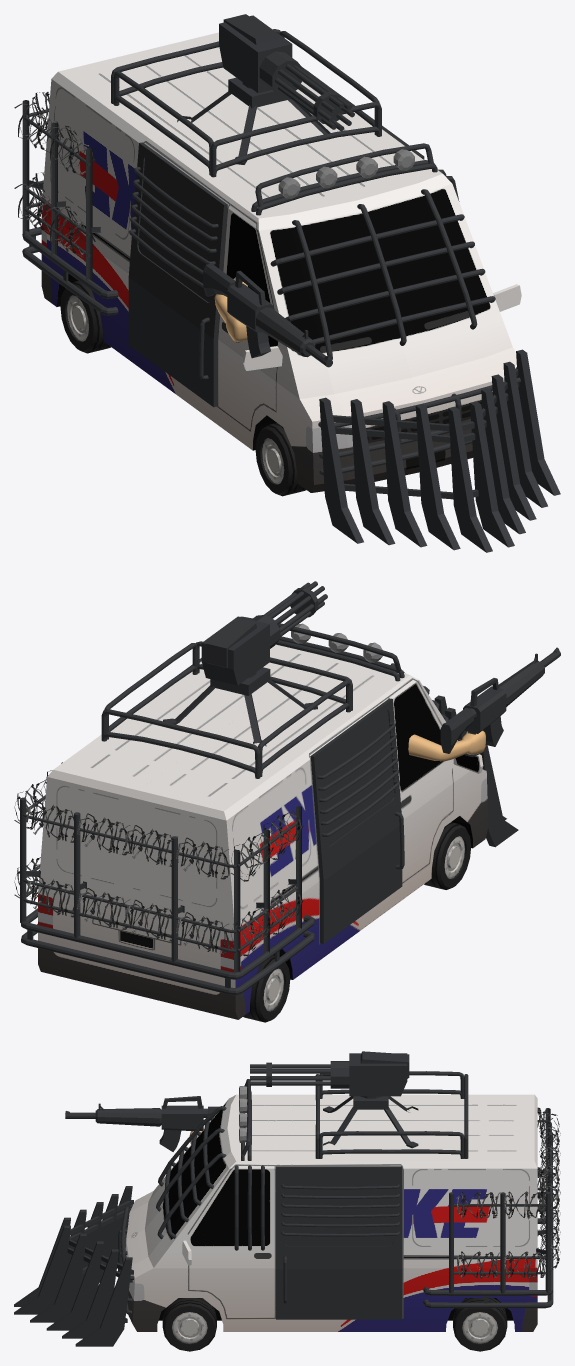
The model's file is Mobil_base_max_lvl.fbx.
3 renders of one model, top to bottom at view 1: azimuth 30°, elevation 25°; view 2: azimuth 150°, elevation 25°; view 3: azimuth 270°, elevation 25°, orthographic. The views are drawn at different scales.
Visible parts, largest first — view 1: Cube, Cube.022, Cube.007, Cylinder.005, Cylinder.052, Cylinder.041, Roundcube, Cylinder.012, Cylinder.048, Cube.003, Cube.006, Cylinder.002 (+4 smaller); view 2: Cube, Cube.007, Cylinder.048, Cylinder.041, Cylinder.052, Roundcube, Cylinder.002, Cylinder.012, Cube.003, Cube.006, Cube.005, Cube.022 (+12 smaller); view 3: Cube, Cube.004, Cube.022, Cylinder.052, Cylinder.048, Cylinder.041, Roundcube, Cylinder.005, Cube.014, Cube.002, Cylinder.002, Cube.005 (+8 smaller).
Part boxes in pixels (x1,y1,x2,y2): Cube: (41, 32, 521, 492); Cube.022: (319, 349, 560, 552); Cube.007: (128, 142, 227, 407); Cylinder.005: (270, 189, 495, 360); Cylinder.052: (219, 14, 354, 131); Cylinder.041: (111, 29, 381, 177); Roundcube: (203, 263, 332, 367); Cylinder.012: (251, 143, 437, 215); Cylinder.048: (22, 100, 100, 280); Cube.003: (255, 423, 305, 496); Cube.006: (60, 281, 110, 353); Cylinder.002: (22, 227, 118, 315); Cube: (38, 644, 488, 1019); Cube.007: (310, 698, 404, 943); Cylinder.048: (20, 778, 301, 972); Cylinder.041: (101, 641, 352, 778); Cylinder.052: (201, 581, 327, 685); Roundcube: (408, 647, 560, 761); Cylinder.002: (21, 908, 314, 995); Cylinder.012: (240, 616, 404, 681); Cube.003: (424, 822, 471, 889); Cube.006: (243, 955, 290, 1022); Cube.005: (163, 667, 317, 746); Cube.022: (434, 695, 518, 847); Cube: (125, 1094, 537, 1331); Cube.004: (276, 1166, 402, 1319); Cube.022: (14, 1186, 133, 1346); Cylinder.052: (250, 1051, 409, 1098); Cylinder.048: (449, 1108, 552, 1293); Cylinder.041: (315, 1071, 468, 1158); Roundcube: (65, 1096, 219, 1151); Cylinder.005: (156, 1106, 226, 1239); Cube.014: (162, 1298, 216, 1351); Cube.002: (453, 1298, 507, 1351); Cylinder.002: (423, 1206, 553, 1308); Cube.005: (323, 1096, 418, 1148).
Size of the model in its own units: 489 by 569 by 1093.
